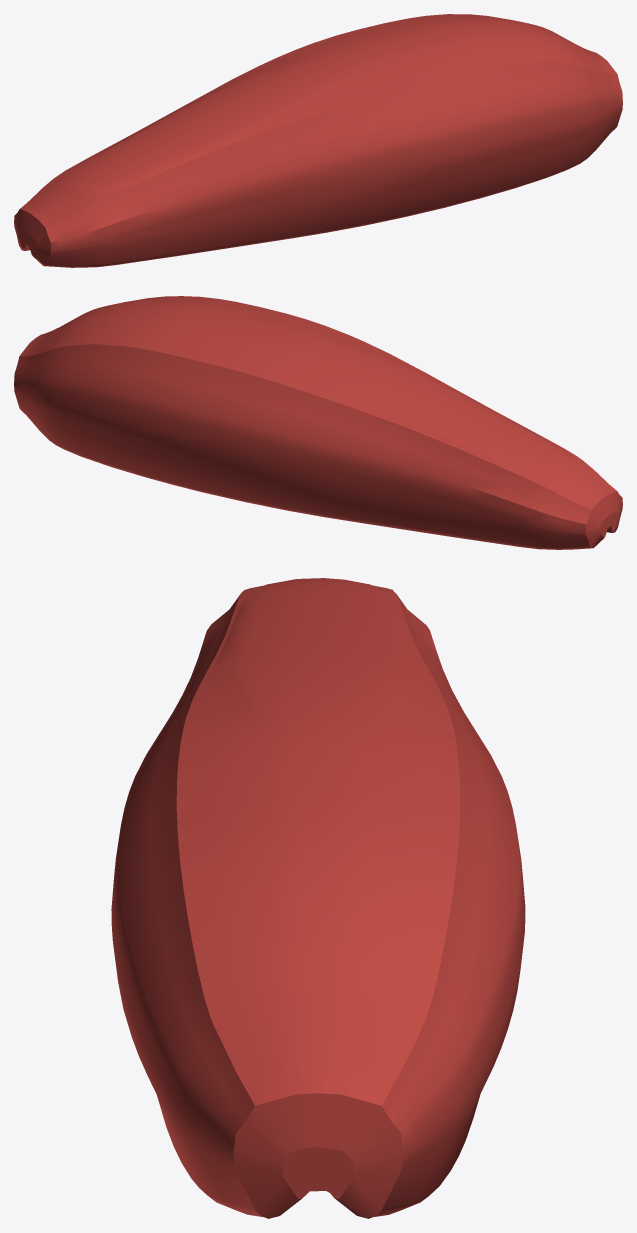
File: cruiser_2_lod2.glb
3 renders of one model, top to bottom at view 1: azimuth 30°, elevation 25°; view 2: azimuth 150°, elevation 25°; view 3: azimuth 270°, elevation 25°, orthographic. The views are drawn at different scales.
Parts seen in each view (by area): view 1: cruiser_2_lod2; view 2: cruiser_2_lod2; view 3: cruiser_2_lod2.
Part boxes in pixels (bbox=[...]): cruiser_2_lod2: bbox=[14, 14, 622, 267]; cruiser_2_lod2: bbox=[14, 296, 622, 549]; cruiser_2_lod2: bbox=[111, 578, 525, 1218].
Bounding box in the file's own units: 1.06 × 0.2515 × 0.3296.
